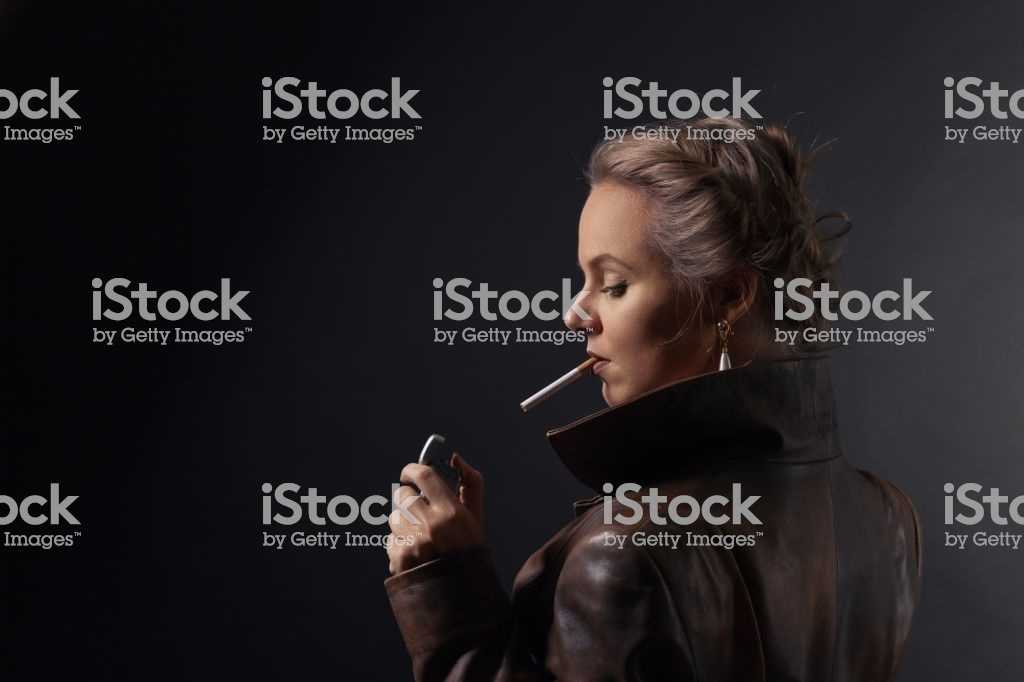sigaretta: (517, 355, 598, 413)
